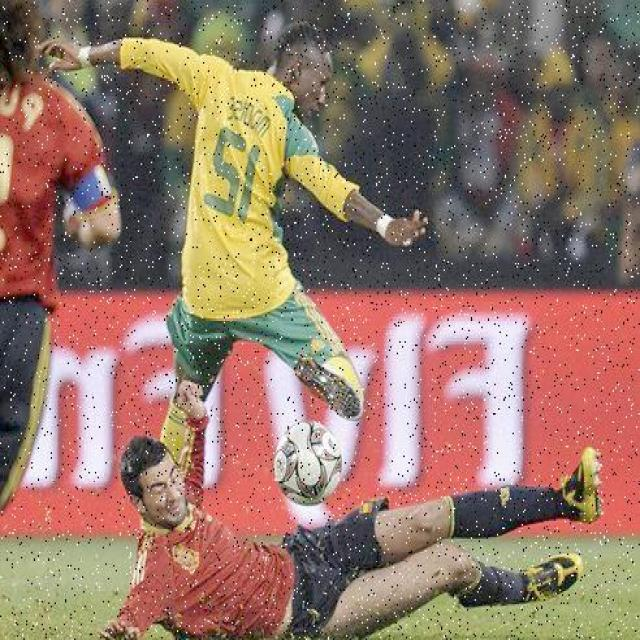fall: (108, 426, 593, 635)
